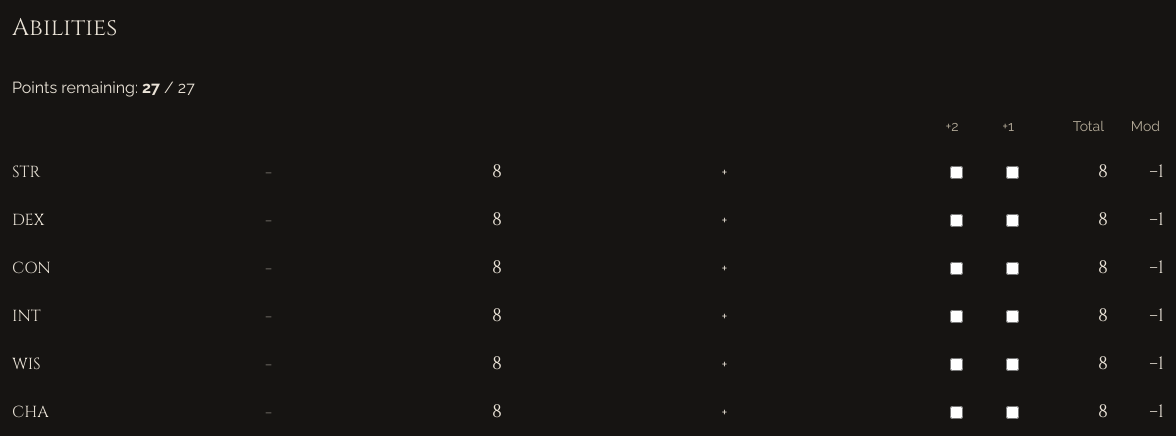
it: increment increases score and decreases remaining points
Click the button named "Increase STR" at (724, 172), box x1=525 y1=152 x2=924 y2=192
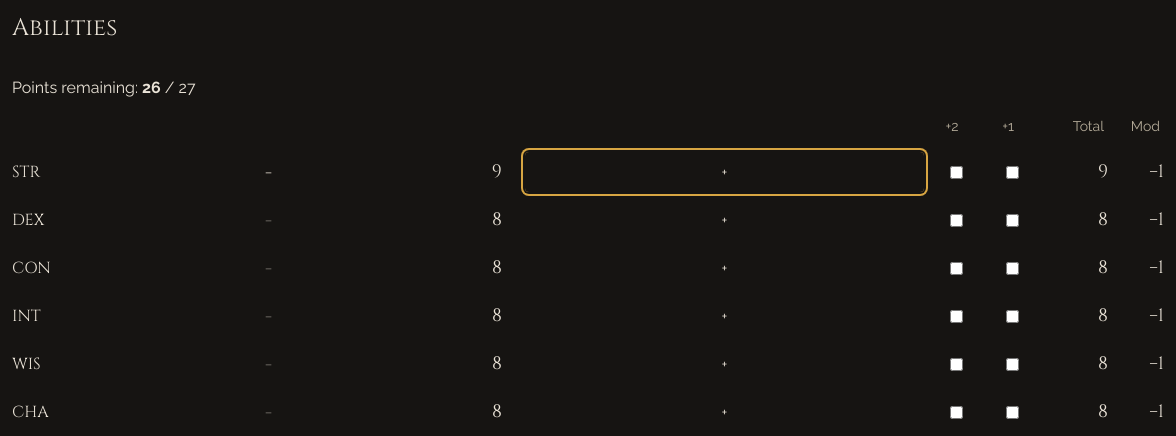
Expected: the text with test id "score-strength" reads "9", x1=492 y1=159 x2=502 y2=184
Expected: the text "Points remaining: 26 / 27" is shown, x1=12 y1=78 x2=196 y2=97
